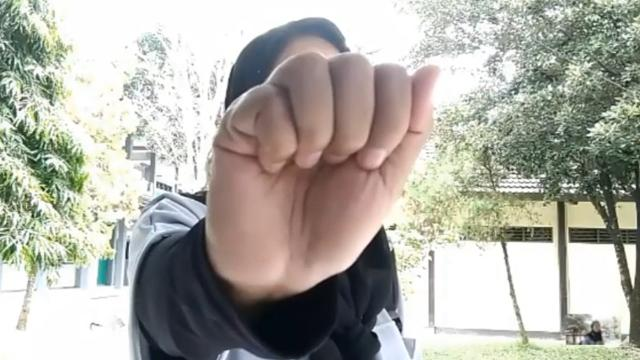A: (196, 49, 440, 296)
